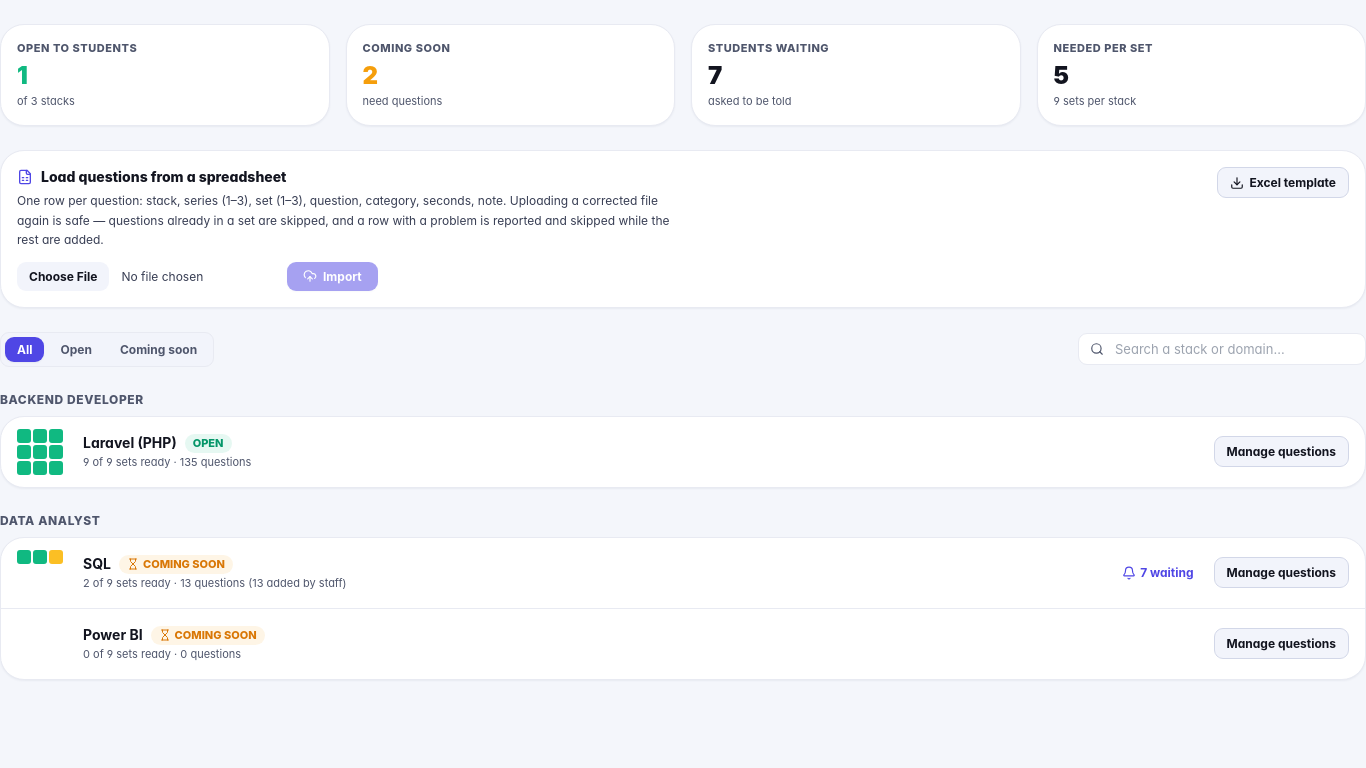
Scenario: filling a stack › shows every set with how many questions it has
Expected: the text "Open to students" is shown, [17,41,137,55]
Click the button with aria-label "manage sql questions": {"x": 1281, "y": 572} [1214,557,1349,588]
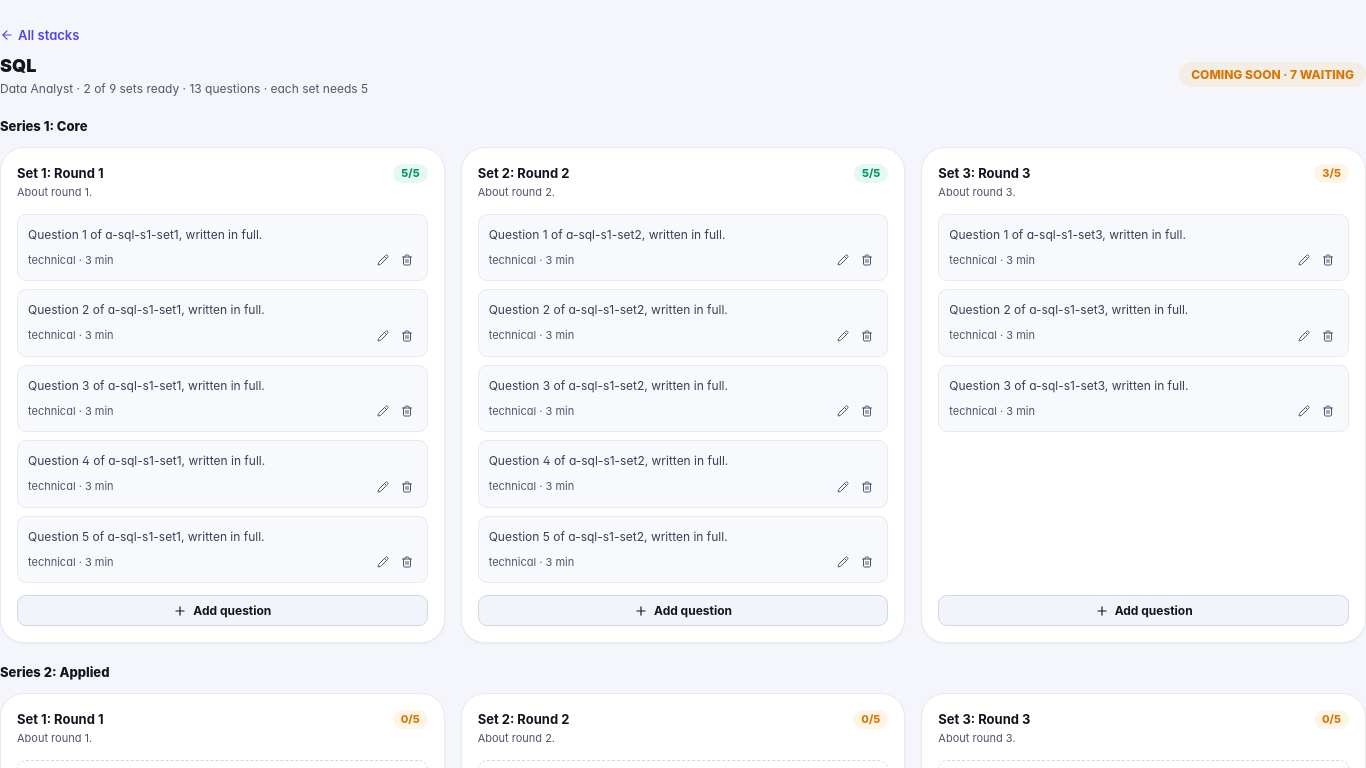
Now the text "2 of 9 sets ready" is shown, box [0,80,368,97]
Now the text "5/5" is shown 2 times, box [393,164,428,183]; [854,164,888,183]
Now the text "3/5" is shown, box [1314,164,1349,183]
